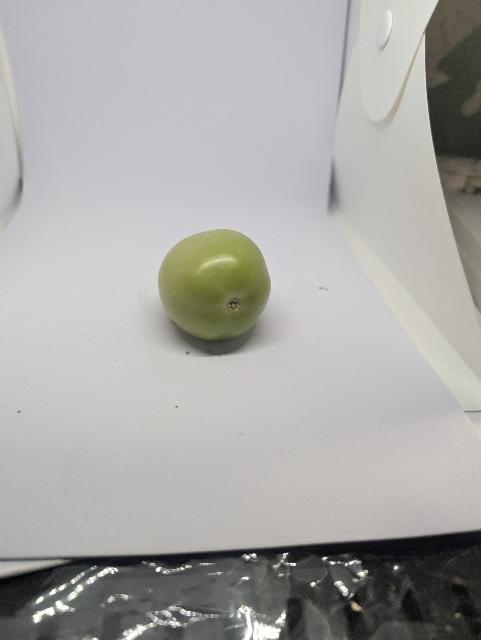green: (155, 226, 275, 343)
